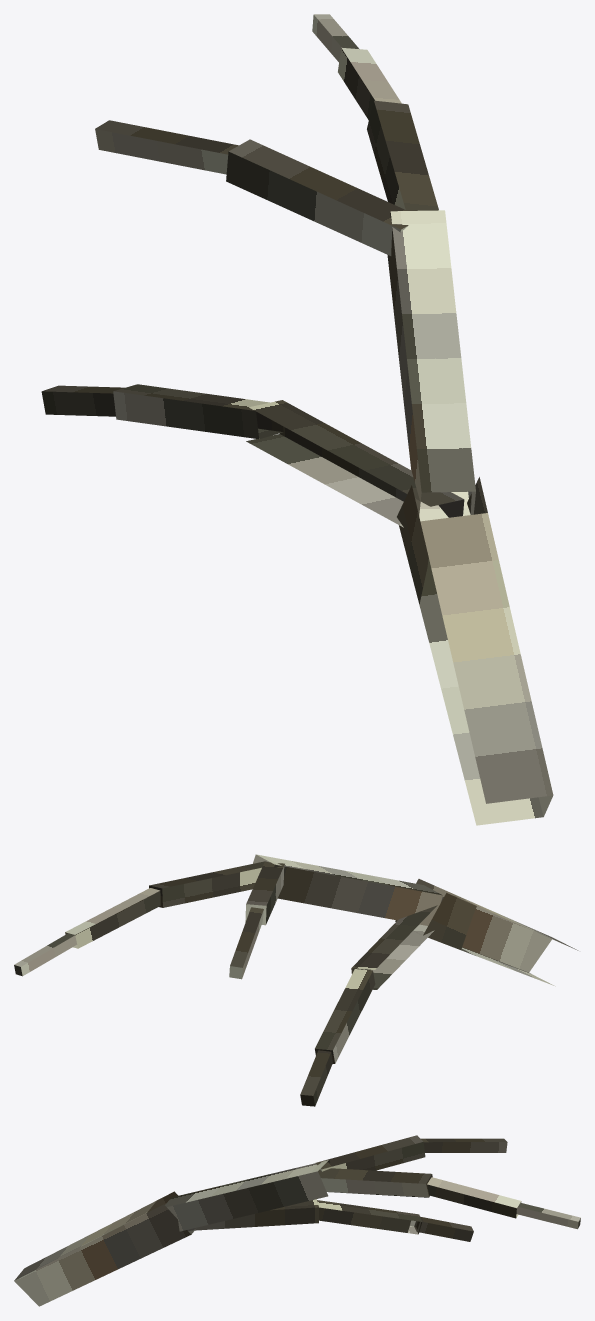
Rendered from birch_twig_branch_up_3.obj.
The picture shows the model from 3 angles, top to bottom: view 1: azimuth 30°, elevation 25°; view 2: azimuth 150°, elevation 25°; view 3: azimuth 270°, elevation 25°; orthographic projection. The views are drawn at different scales.
Visible parts, largest first — view 1: cube; view 2: cube; view 3: cube.
Part boxes in pixels (x1,y1,x2,y2): cube: [41, 14, 553, 825]; cube: [14, 854, 578, 1106]; cube: [14, 1135, 580, 1306].
Size of the model in its own units: 0.9528 by 0.8624 by 2.35.
